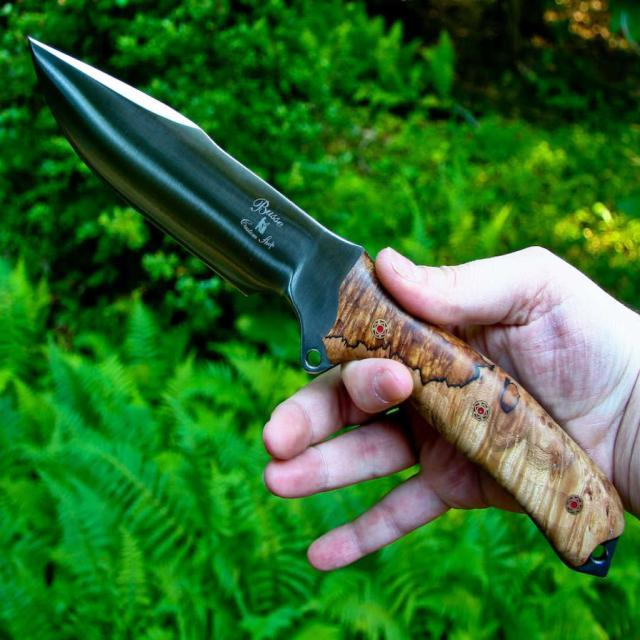Knife: (30, 39, 622, 572)
